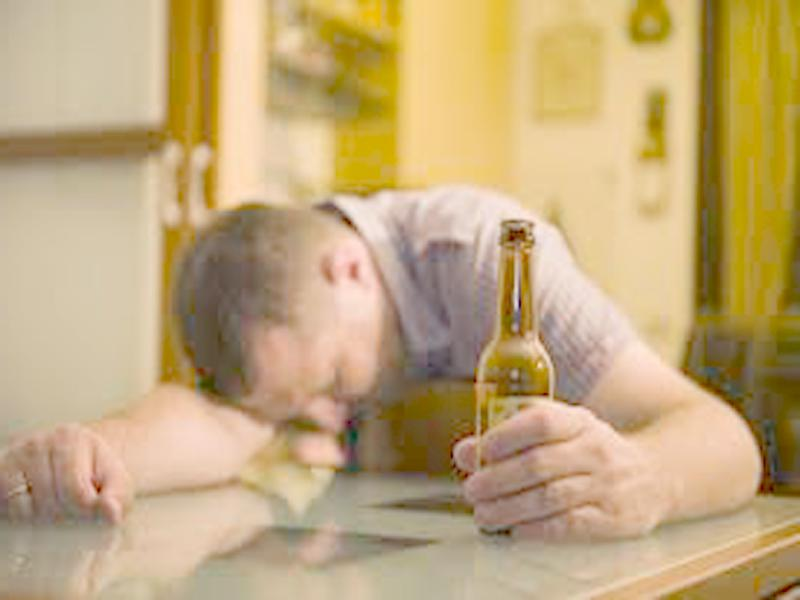Beer: (479, 216, 549, 538)
